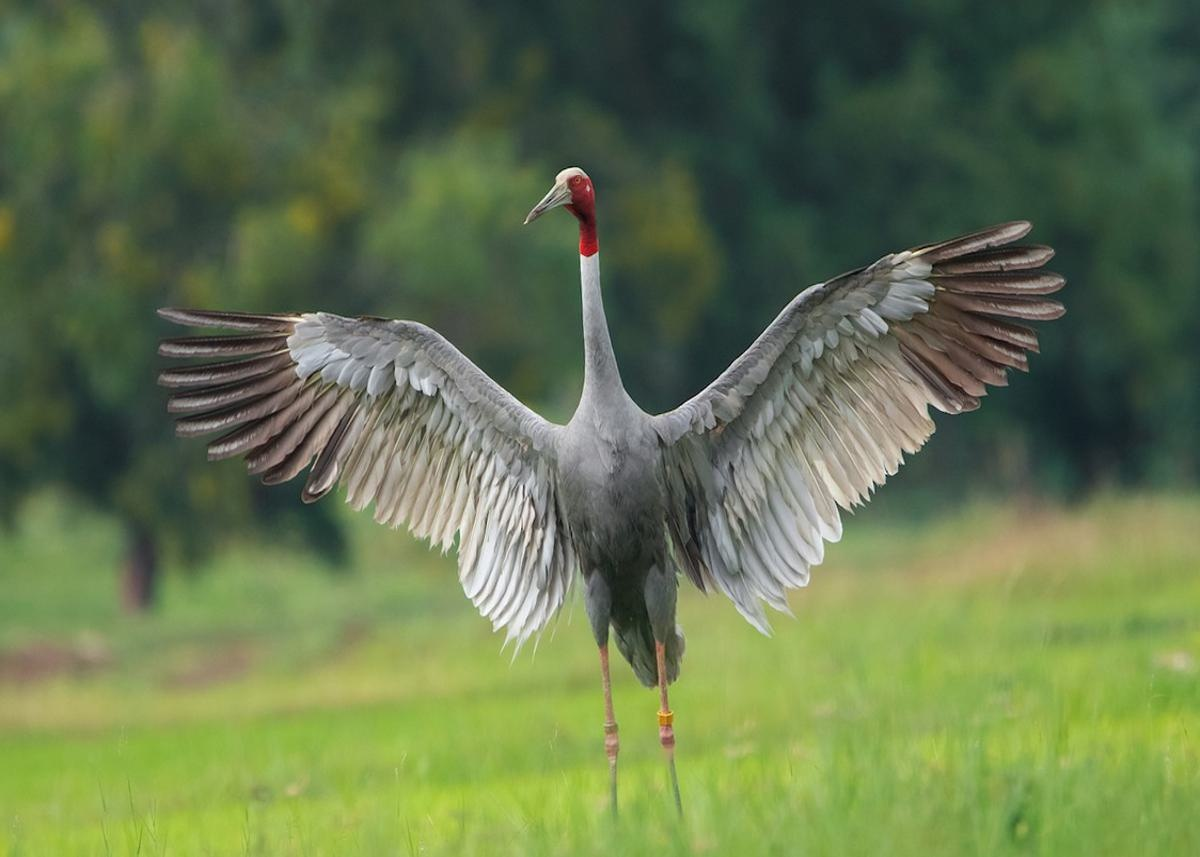crane: (159, 145, 1069, 831)
